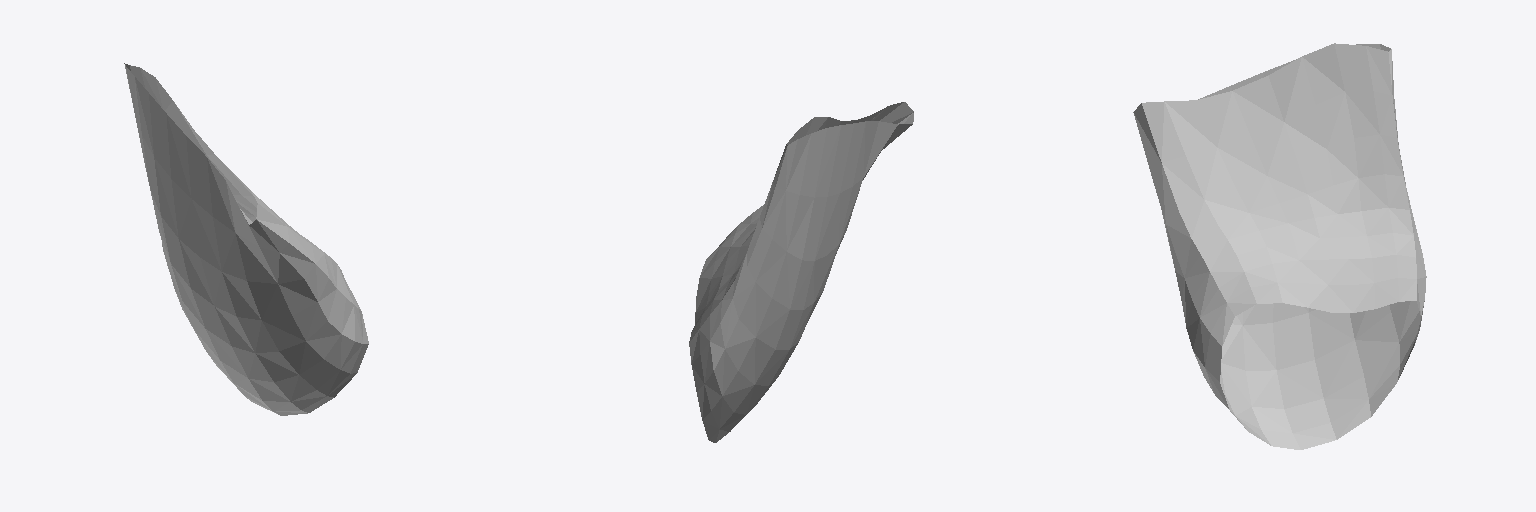
The model's file is masseter_deep_right.obj.
3 renders of one model, left to right at view 1: azimuth 30°, elevation 25°; view 2: azimuth 150°, elevation 25°; view 3: azimuth 270°, elevation 25°, orthographic.
Parts seen in each view (by area): view 1: Masseter_Deep_Muscle_Right; view 2: Masseter_Deep_Muscle_Right; view 3: Masseter_Deep_Muscle_Right.
Boxes of the visible parts, x1,y1,x2,y2 form: Masseter_Deep_Muscle_Right: [124, 63, 368, 415]; Masseter_Deep_Muscle_Right: [689, 102, 913, 442]; Masseter_Deep_Muscle_Right: [1133, 43, 1426, 449].
Size of the model in its own units: 0.2 by 0.4061 by 0.3052.